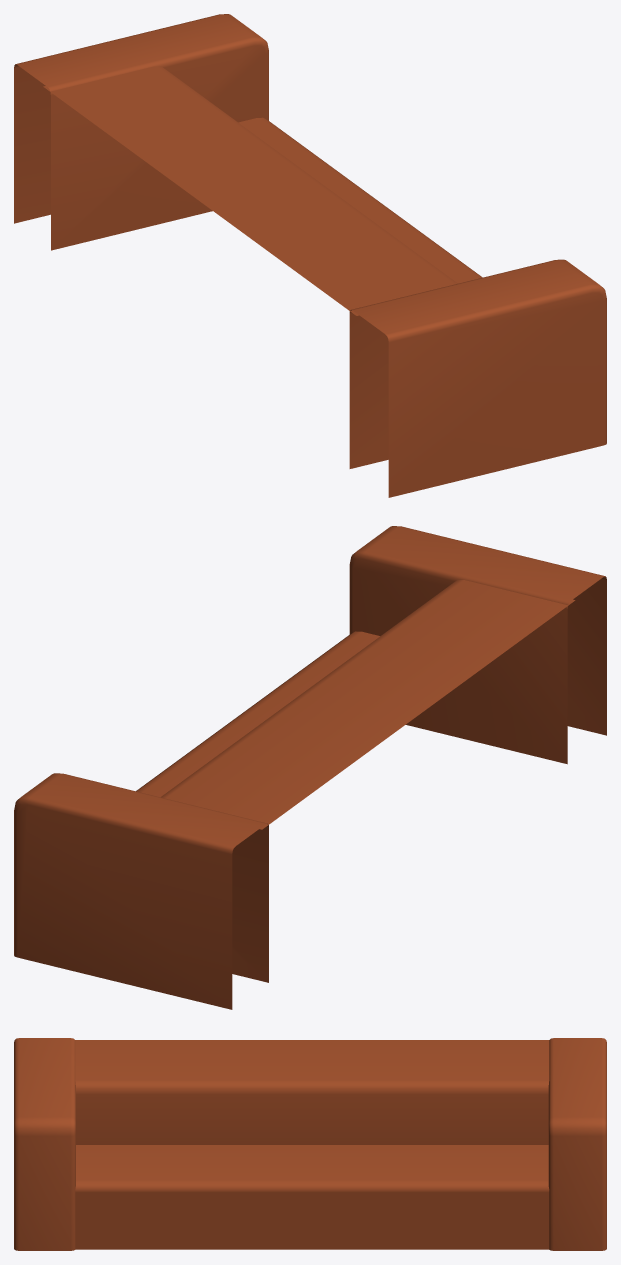
File: Steps.FBX
3 views of the same model, one above another, from view 1: azimuth 30°, elevation 25°; view 2: azimuth 150°, elevation 25°; view 3: azimuth 270°, elevation 25° (orthographic). The views are drawn at different scales.
Visible parts, largest first — view 1: Steps; view 2: Steps; view 3: Steps.
Part boxes in pixels (x1,y1,x2,y2): Steps: (14, 14, 606, 497); Steps: (14, 526, 606, 1009); Steps: (14, 1038, 606, 1250).
Bounding box in the file's own units: 7.37 × 5.15 × 21.67.
